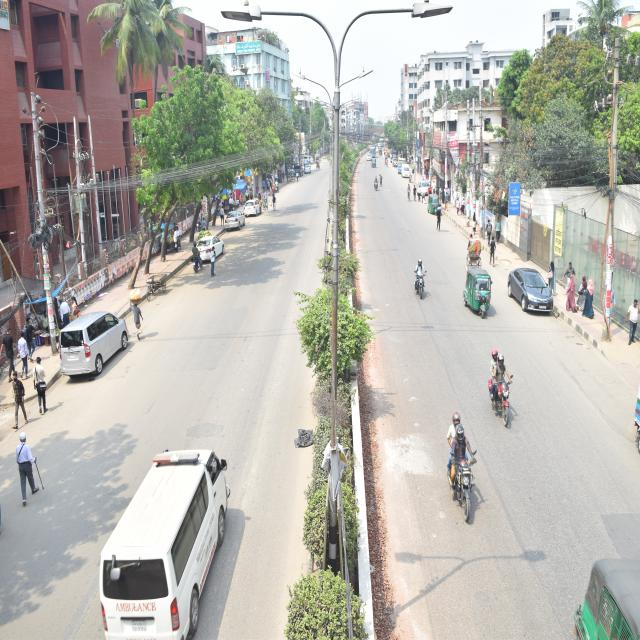car: (49, 299, 164, 399), (488, 252, 571, 325), (186, 223, 222, 277), (218, 200, 248, 248), (413, 173, 438, 207), (244, 189, 267, 224), (398, 157, 418, 181), (303, 158, 316, 183), (368, 145, 375, 164)
microbus: (82, 377, 269, 640)
motorbike: (409, 371, 491, 524), (478, 339, 530, 428), (397, 240, 436, 307), (368, 175, 384, 209)
